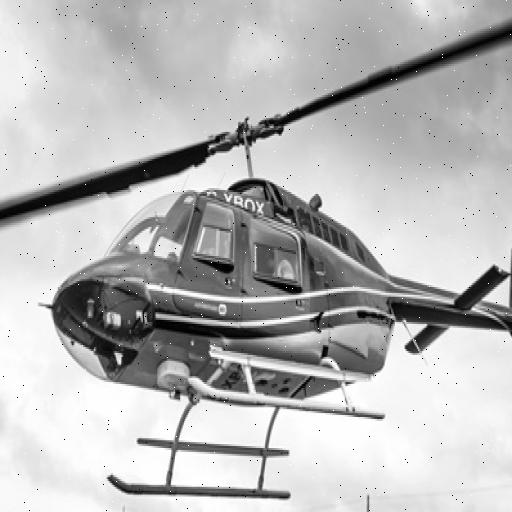helicopter: (1, 1, 512, 499)
